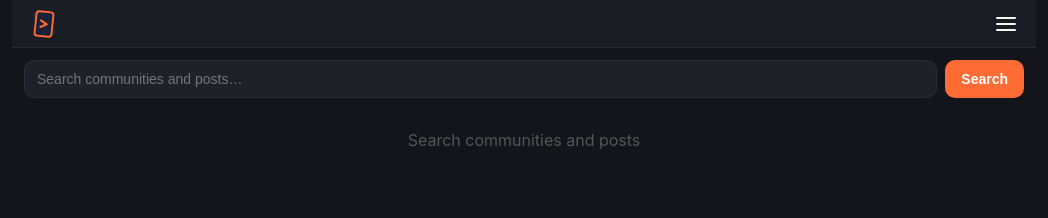
SearchPage › shows empty state when no community results
In the search field: x=481, y=79 [24,60,937,98], type "xyzzy"
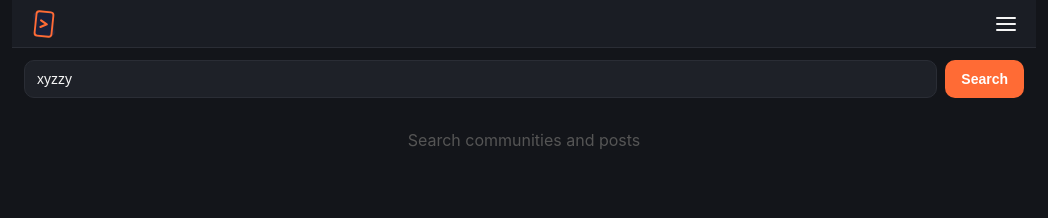
Click the button "Search": x=985, y=79 [945,60,1024,98]
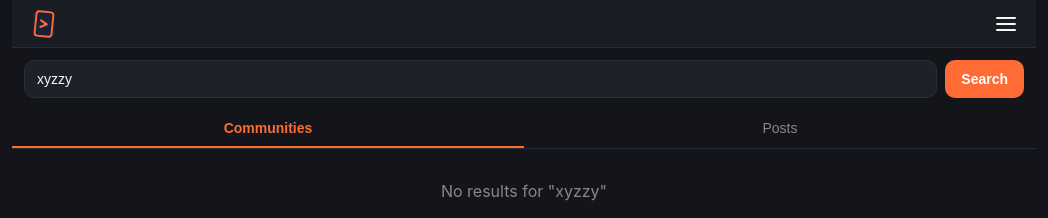
Now the text "No results for \"xyzzy\"" is shown, box [441,181,607,201]
